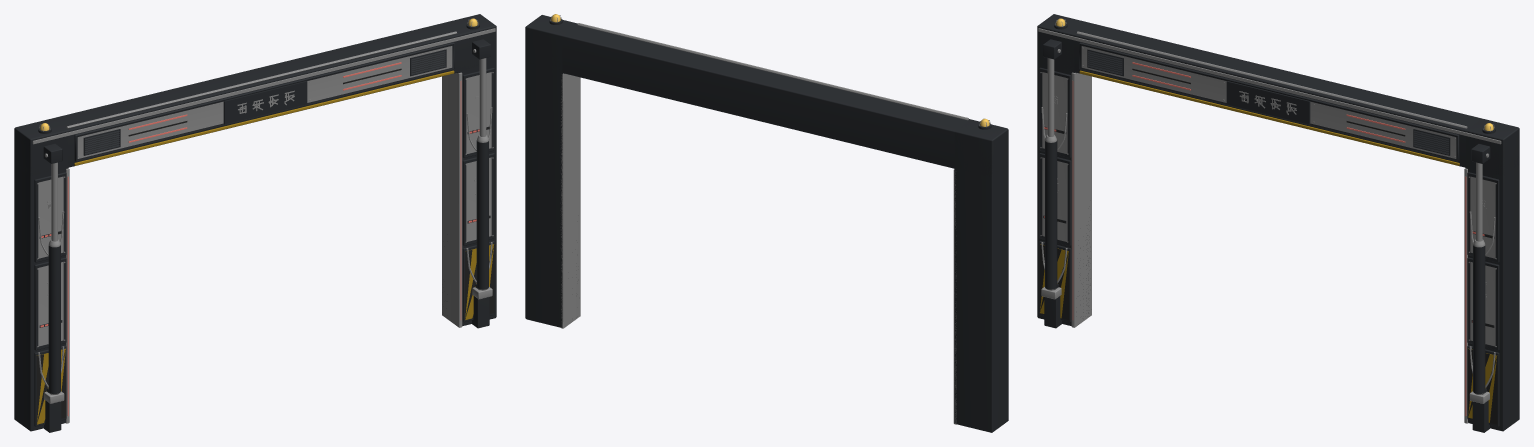
Rendered from Vault_BlastDoor_Frame.fbx.
The picture shows the model from 3 angles, left to right: view 1: azimuth 30°, elevation 25°; view 2: azimuth 150°, elevation 25°; view 3: azimuth 330°, elevation 25°; orthographic projection.
Parts seen in each view (by area): view 1: Vault_BlastDoor_Frame_LOD0; view 2: Vault_BlastDoor_Frame_LOD0; view 3: Vault_BlastDoor_Frame_LOD0.
Part boxes in pixels (x1,y1,x2,y2): Vault_BlastDoor_Frame_LOD0: (14, 14, 496, 432); Vault_BlastDoor_Frame_LOD0: (525, 14, 1008, 432); Vault_BlastDoor_Frame_LOD0: (1037, 14, 1519, 432).
Size of what is drawn, in the model's own units: 19.2 by 11.8 by 1.77.
